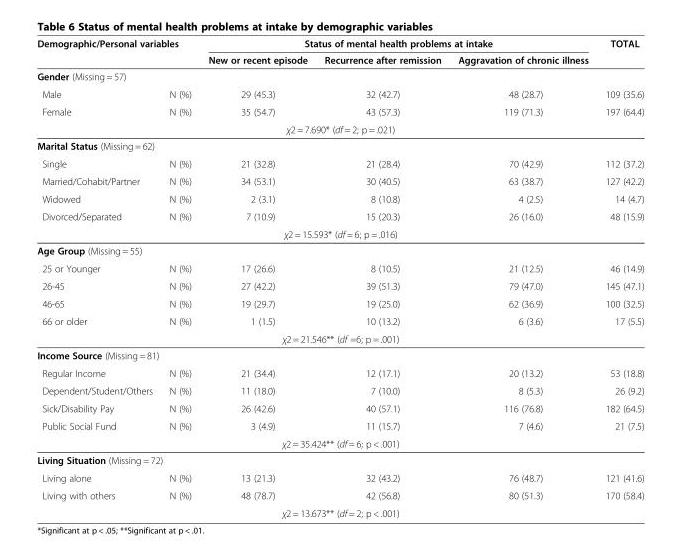table: (36, 37, 643, 518)
table column: (449, 37, 596, 518), (315, 37, 449, 518), (36, 37, 160, 518), (199, 37, 315, 518), (596, 37, 643, 518), (160, 37, 199, 518)
table column header: (36, 37, 643, 102)
table projected row header: (36, 119, 643, 137), (36, 224, 643, 242), (36, 346, 643, 364), (36, 137, 643, 154), (36, 242, 643, 259), (36, 329, 643, 346), (36, 434, 643, 451), (36, 451, 643, 468), (36, 503, 643, 518)
table row: (36, 67, 643, 85), (36, 119, 643, 137), (36, 154, 643, 172), (36, 189, 643, 207), (36, 224, 643, 242), (36, 276, 643, 294), (36, 294, 643, 312), (36, 346, 643, 364), (36, 381, 643, 399), (36, 416, 643, 434), (36, 468, 643, 486), (36, 85, 643, 102), (36, 102, 643, 119), (36, 137, 643, 154), (36, 172, 643, 189), (36, 207, 643, 224), (36, 242, 643, 259), (36, 259, 643, 276), (36, 312, 643, 329), (36, 329, 643, 346), (36, 364, 643, 381), (36, 399, 643, 416), (36, 434, 643, 451), (36, 451, 643, 468), (36, 486, 643, 503), (36, 51, 643, 67), (36, 503, 643, 518), (36, 37, 643, 51)
table spanning cell: (36, 67, 643, 85), (199, 37, 596, 51), (36, 37, 199, 67), (596, 37, 643, 67)
